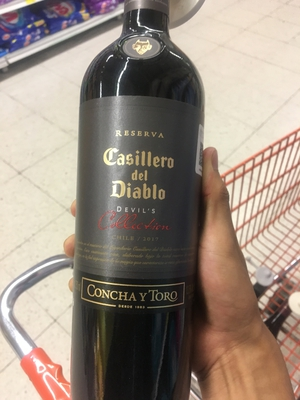casillero del diablo devils collection rojo: (74, 10, 207, 400)
